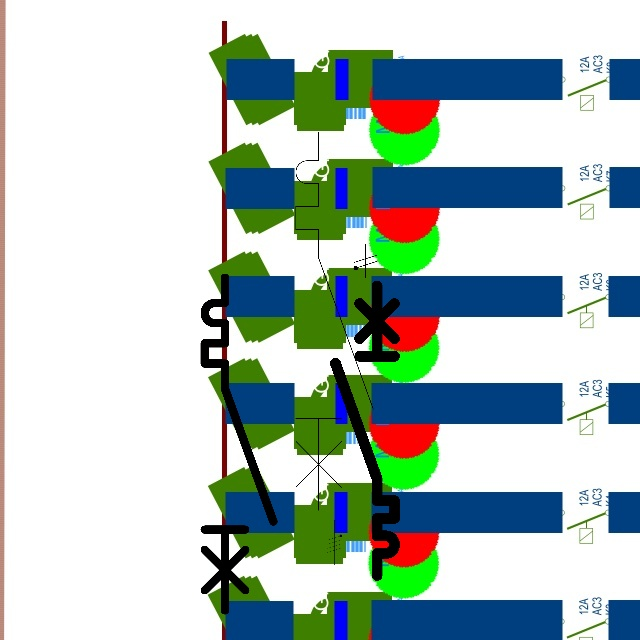interruptor_termomagnetico: (286, 122, 383, 520), (196, 269, 281, 619), (328, 278, 402, 583)
